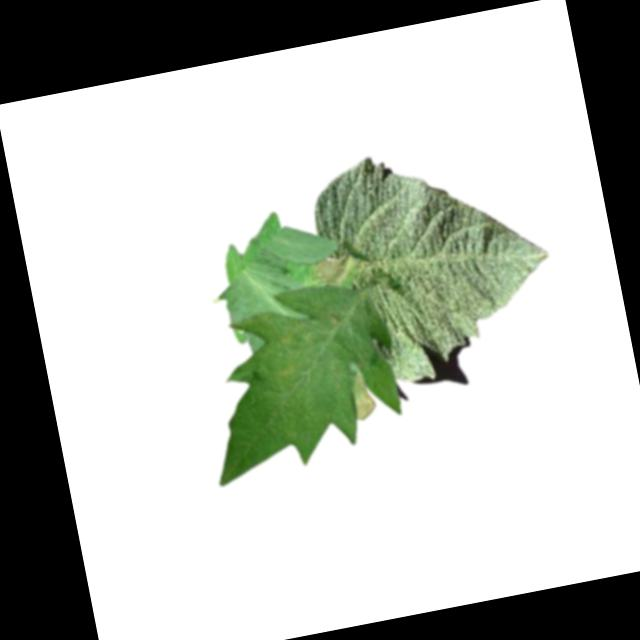Late_blight: (255, 313, 323, 388), (346, 367, 379, 422), (308, 252, 353, 291)
healthy: (304, 127, 565, 393)
